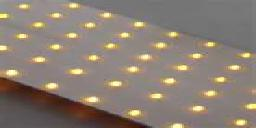LED: (94, 14, 228, 128), (64, 64, 86, 80), (50, 41, 61, 51)
